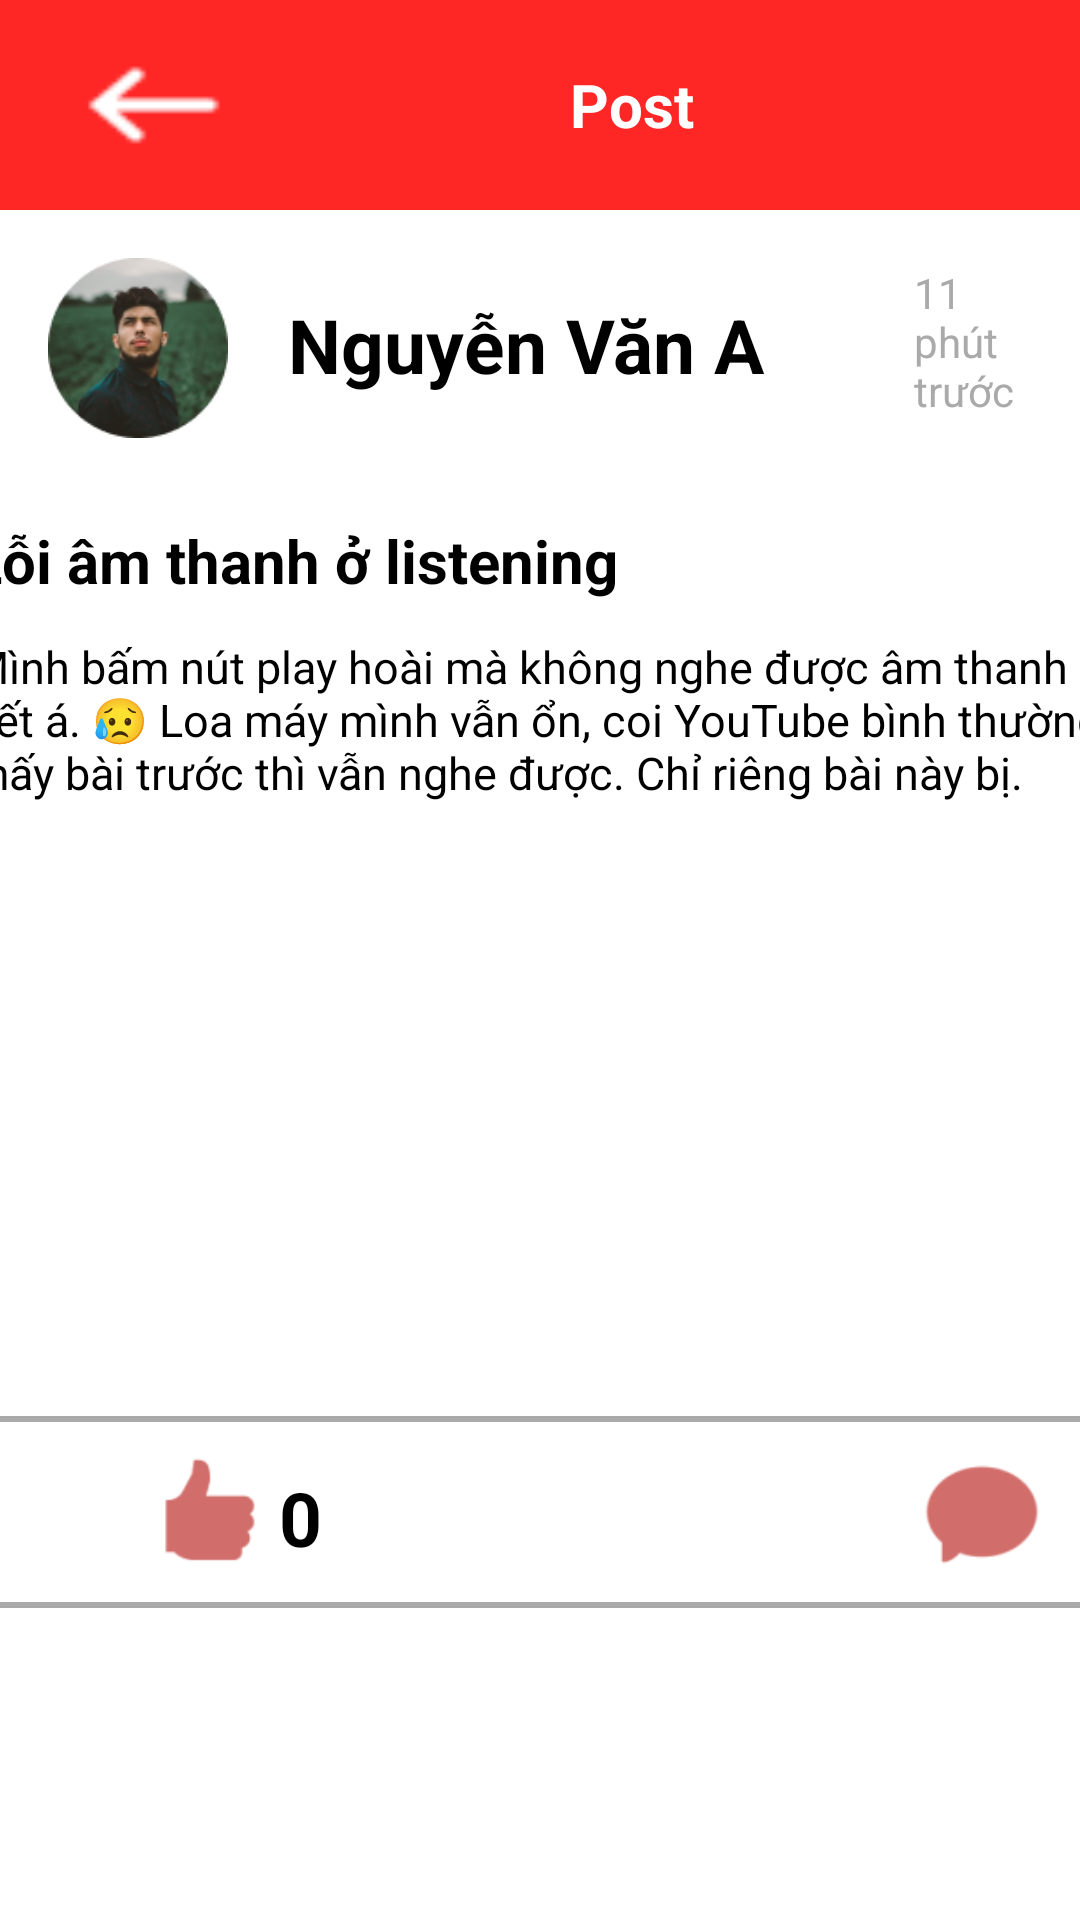

Icon bounding boxes for this 1080px×1920px phone screenshot, format {"left": x1, "top": y1, "right": x2, "bottom": y2}:
backward: {"left": 88, "top": 66, "right": 220, "bottom": 144}
comment: {"left": 926, "top": 1466, "right": 1038, "bottom": 1563}
like: {"left": 165, "top": 1459, "right": 255, "bottom": 1561}
